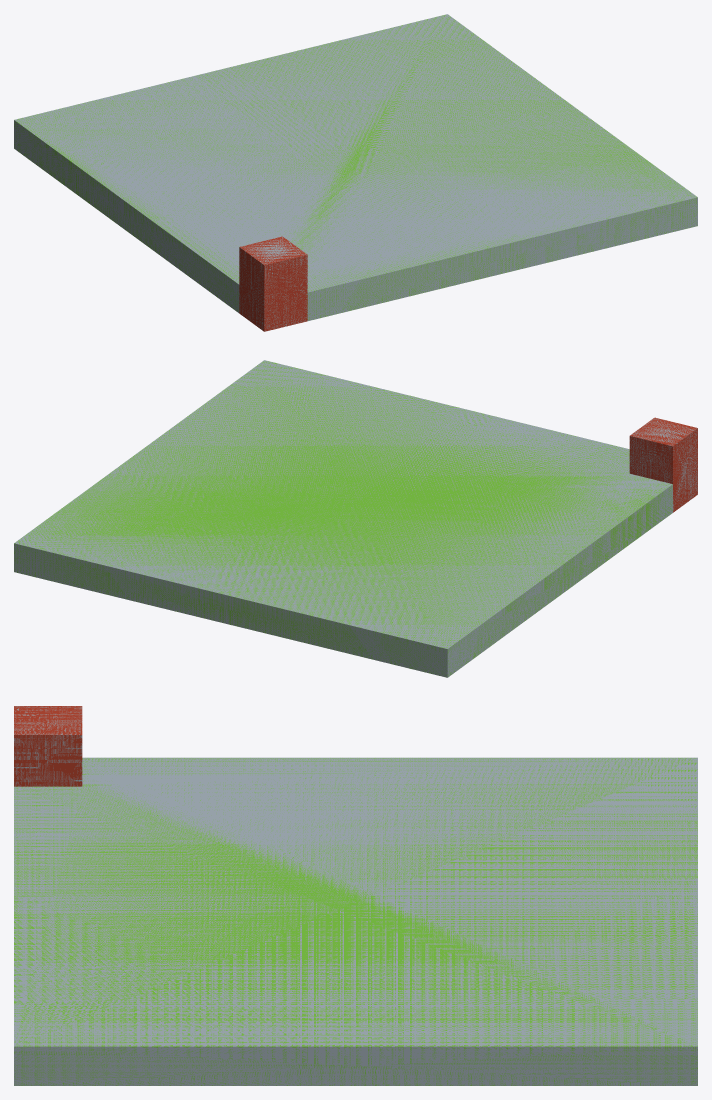
The model's file is Inner_corner_01.fbx.
The picture shows the model from 3 angles, top to bottom: view 1: azimuth 30°, elevation 25°; view 2: azimuth 150°, elevation 25°; view 3: azimuth 270°, elevation 25°; orthographic projection. The views are drawn at different scales.
Parts seen in each view (by area): view 1: Mesh1_Inner_corner Model; view 2: Mesh1_Inner_corner Model; view 3: Mesh1_Inner_corner Model.
Boxes of the visible parts, left/top/right/bottom form: Mesh1_Inner_corner Model: left=14, top=14, right=697, bottom=331; Mesh1_Inner_corner Model: left=14, top=360, right=697, bottom=677; Mesh1_Inner_corner Model: left=14, top=706, right=697, bottom=1085.
Size of the model in its own units: 3 by 0.44 by 3.
